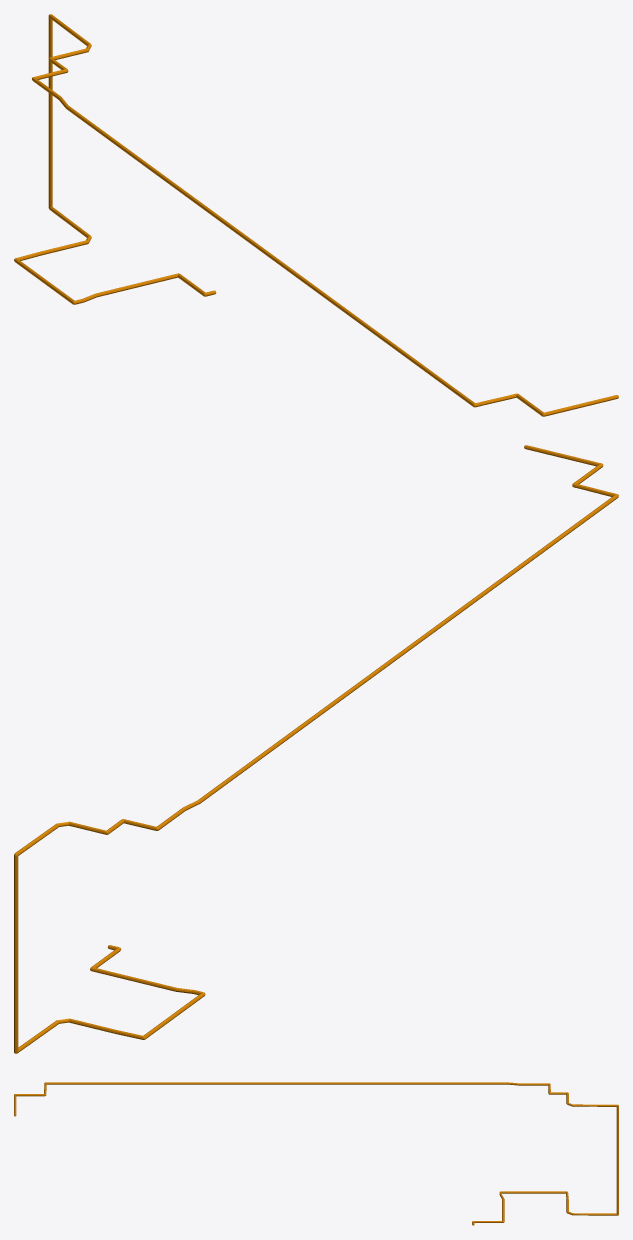
3 views of the same model, one above another, from view 1: azimuth 30°, elevation 25°; view 2: azimuth 150°, elevation 25°; view 3: azimuth 270°, elevation 25° (orthographic). The views are drawn at different scales.
Bounding box in the file's own units: 658 × 1020 × 5044.
